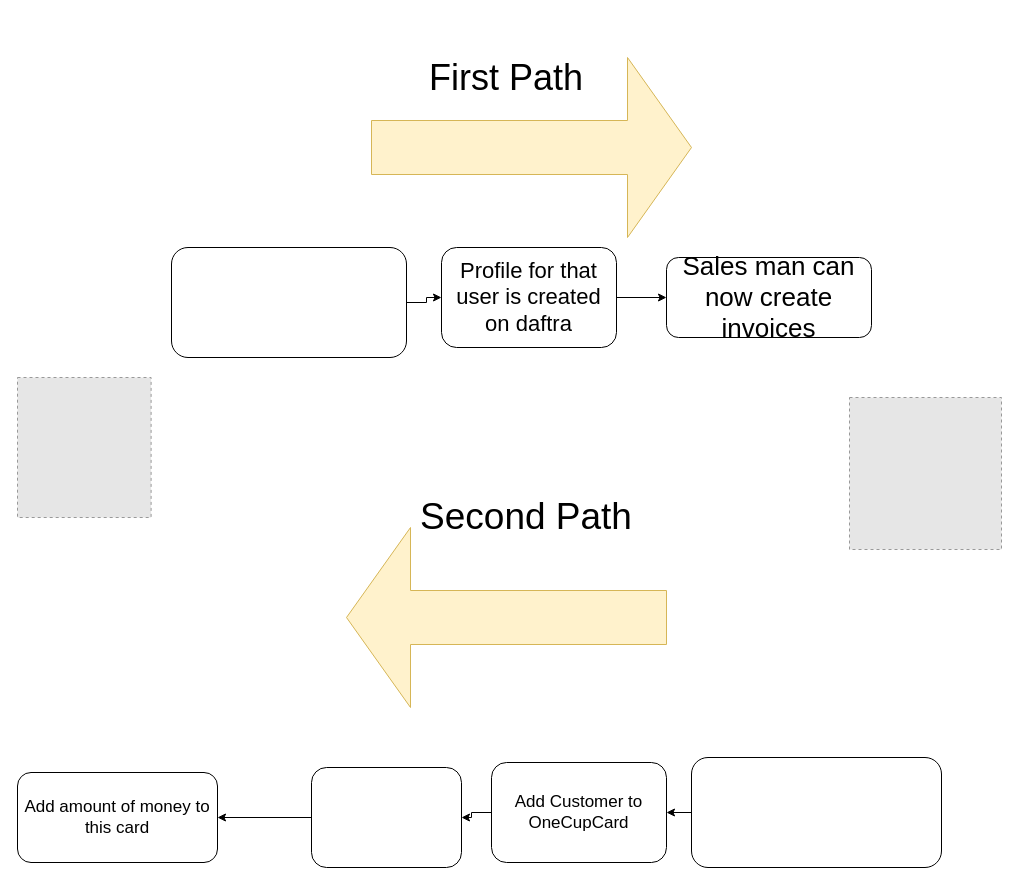
Some shapes in this 1019 by 885 pixel diagram are drawn without their labels. Grey dashed boxes stand in for pictures. Each missing label, with the centre of its shape:
Create a card for this customer: point 386,817
Profile and invoice is created on daftra by sales man: point 816,812
User installs Card: point 288,302
